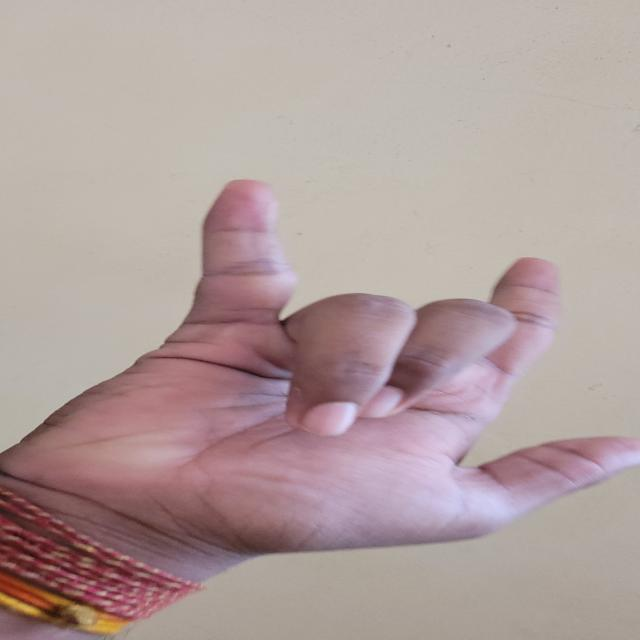i like you: (22, 168, 640, 594)
